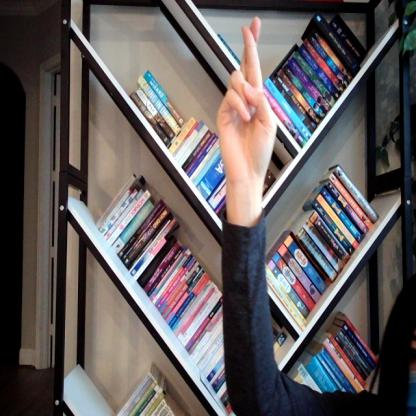right: (212, 14, 280, 201)
